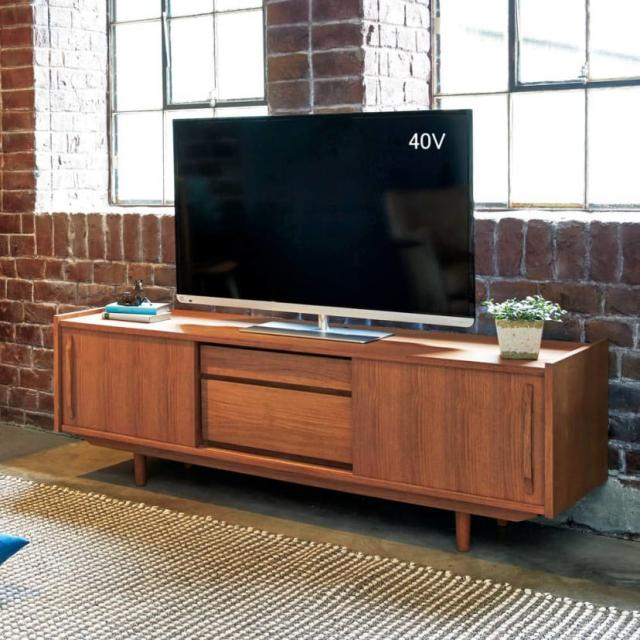vintage shelf: (46, 301, 612, 553)
